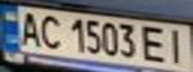0: (100, 20, 121, 57)
1: (63, 15, 87, 53)
3: (118, 20, 142, 60)
5: (81, 17, 103, 55)
A: (15, 8, 42, 47)
C: (36, 11, 66, 50)
E: (139, 24, 172, 64)
I: (163, 26, 193, 65)
